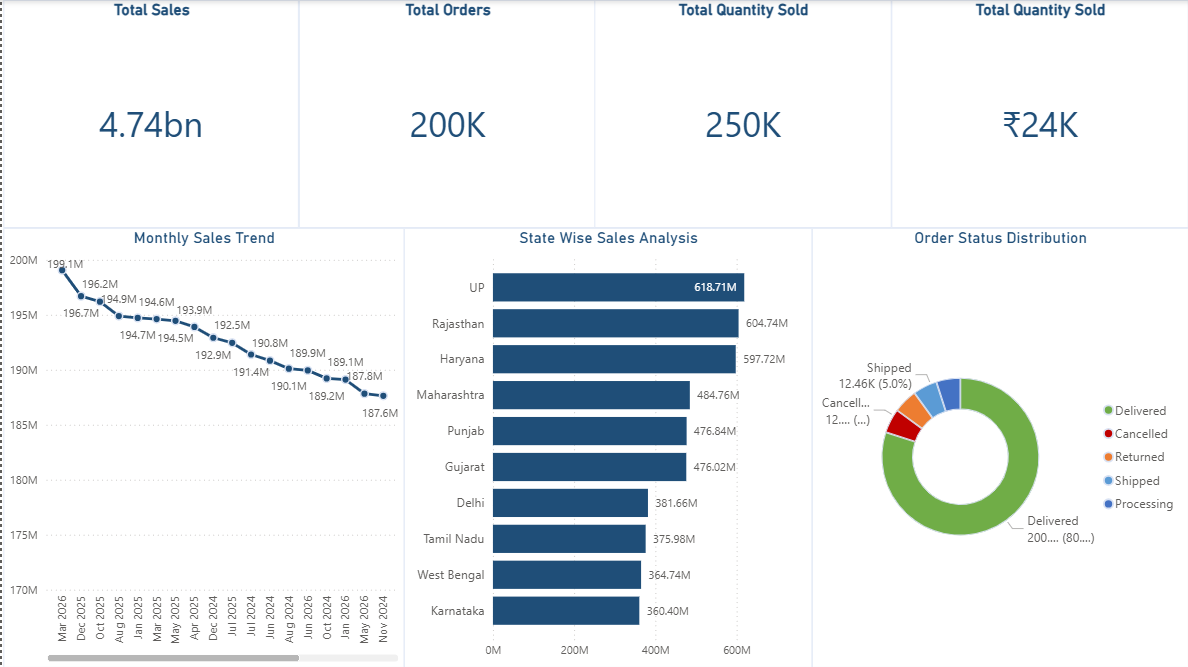

This screenshot's page, from the dashboard's own definition file:
{"tool":"powerbi","page":{"name":"Sales Overview","canvas":[1280,720],"ordinal":0},"visuals":[{"type":"card","title":"Total Sales","fields":{"Values":["indian_ecommerce sales.Total Sales"]},"box":[1.6,0,319,246.1],"z":0},{"type":"card","title":"Total Orders","fields":{"Values":["indian_ecommerce sales.Total Orders"]},"box":[320.6,0,320.6,246.1],"z":1000},{"type":"card","title":"Total Quantity Sold","fields":{"Values":["indian_ecommerce sales.Total Quantity Sold"]},"box":[639.6,0,320.6,246.1],"z":2000},{"type":"card","title":"Total Quantity Sold","fields":{"Values":["indian_ecommerce sales.Average Order Value"]},"box":[960.2,0,320.6,246.1],"z":3000},{"type":"lineChart","title":"Monthly Sales Trend","fields":{"Category":["indian_ecommerce sales.Month Year"],"Y":["indian_ecommerce sales.Total Sales"]},"box":[1.6,246.1,432.3,474.4],"z":4000},{"type":"clusteredBarChart","title":"State Wise Sales Analysis","fields":{"Category":["indian_ecommerce sales.State"],"Y":["indian_ecommerce sales.Total Sales"]},"box":[434,246.1,440.4,474.4],"z":5000},{"type":"donutChart","title":"Order Status Distribution","fields":{"Category":["indian_ecommerce sales.Order_Status"],"Y":["CountNonNull(indian_ecommerce sales.Order_ID)"]},"box":[874.4,246.1,406.4,474.4],"z":6000}]}

Visuals, with their boxes in screenshot pixels (x1, y1, x2, y2), scaled from the page's 1280x720 canvas onto the 1188x667 screenshot:
"Total Sales" card: (left=1, top=0, right=298, bottom=228)
"Total Orders" card: (left=298, top=0, right=595, bottom=228)
"Total Quantity Sold" card: (left=594, top=0, right=891, bottom=228)
"Total Quantity Sold" card: (left=891, top=0, right=1187, bottom=228)
"Monthly Sales Trend" lineChart: (left=1, top=228, right=403, bottom=666)
"State Wise Sales Analysis" clusteredBarChart: (left=403, top=228, right=812, bottom=666)
"Order Status Distribution" donutChart: (left=812, top=228, right=1187, bottom=666)
